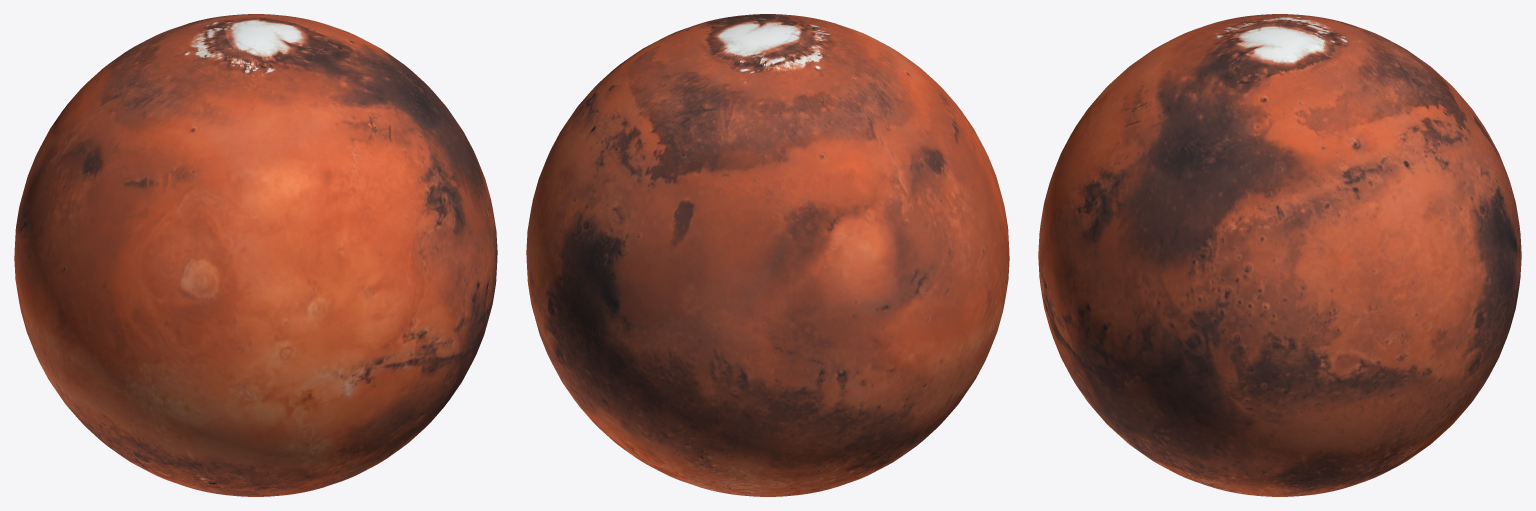
The model's file is centered_Mars.glb.
The picture shows the model from 3 angles, left to right: view 1: azimuth 30°, elevation 25°; view 2: azimuth 150°, elevation 25°; view 3: azimuth 270°, elevation 25°; orthographic projection.
Visible parts, largest first — view 1: Mars; view 2: Mars; view 3: Mars.
Boxes of the visible parts, x1,y1,x2,y2 form: Mars: (14,14,497,496); Mars: (526,14,1009,496); Mars: (1038,14,1521,496).
Size of the model in its own units: 13.91 by 13.91 by 13.91.
Materials: 1 (1 with a texture image).
